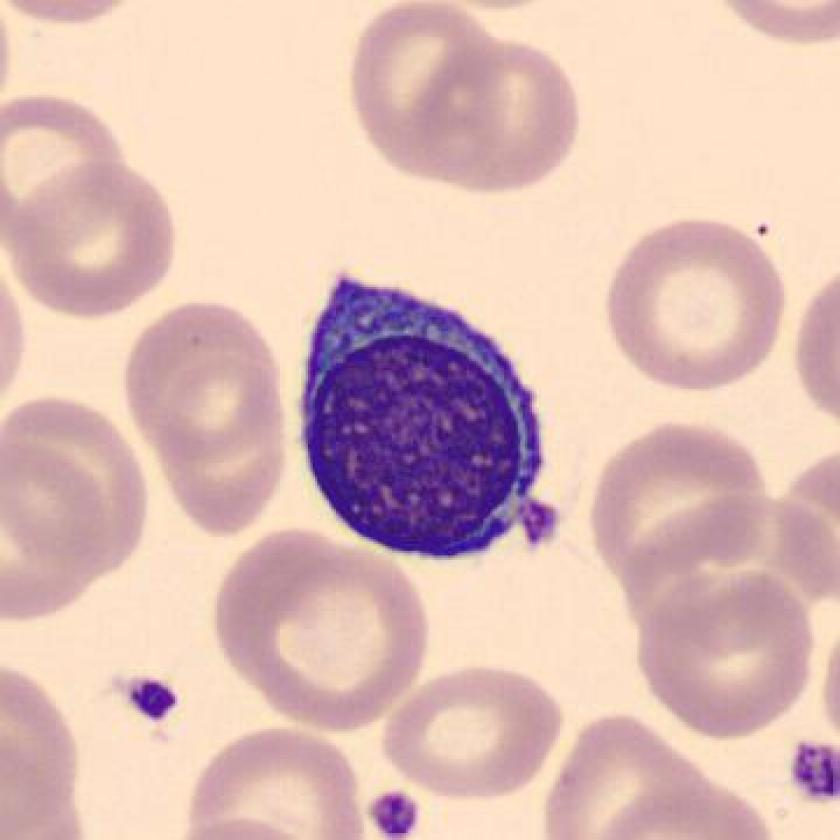lymphocyte: (279, 260, 577, 577)
